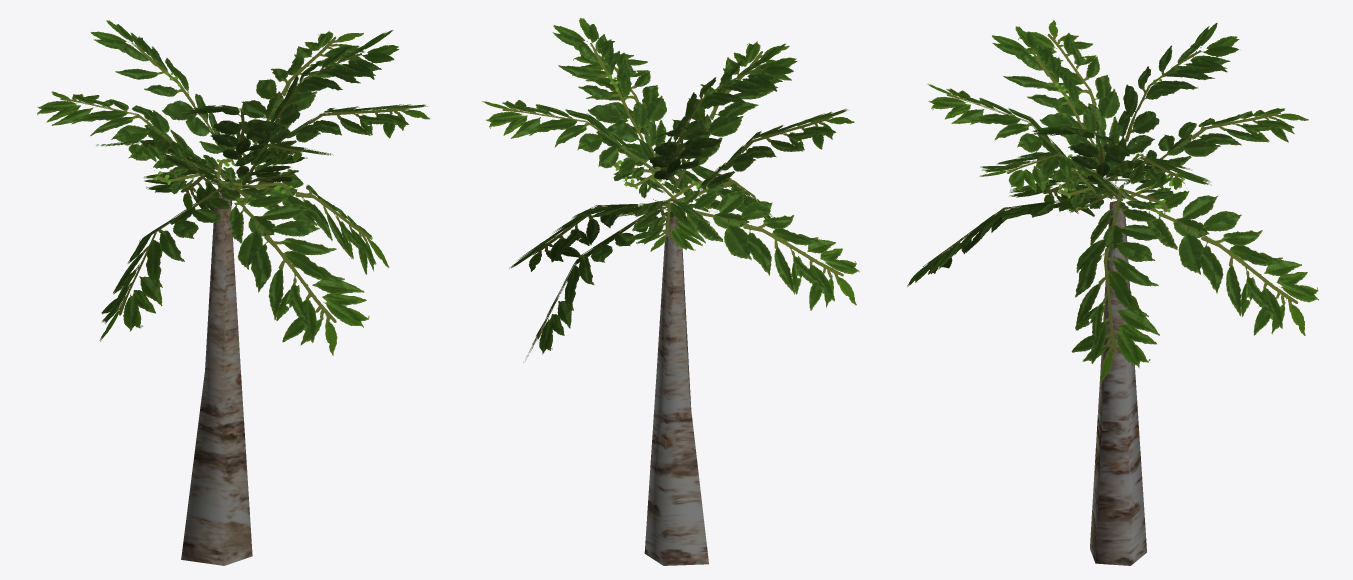
Rendered from palm2.dae.
3 views of the same model, side by side, from view 1: azimuth 30°, elevation 25°; view 2: azimuth 150°, elevation 25°; view 3: azimuth 270°, elevation 25° (orthographic). The views are drawn at different scales.
Visible parts, largest first — view 1: Plane.001; view 2: Plane.001; view 3: Plane.001.
Part boxes in pixels (x1=…): Plane.001: x1=37, y1=20, x2=429, y2=565; Plane.001: x1=482, y1=18, x2=859, y2=565; Plane.001: x1=907, y1=20, x2=1318, y2=565.
Bounding box in the file's own units: 3.29 × 3.54 × 4.44.
1 material, 1 textured.
